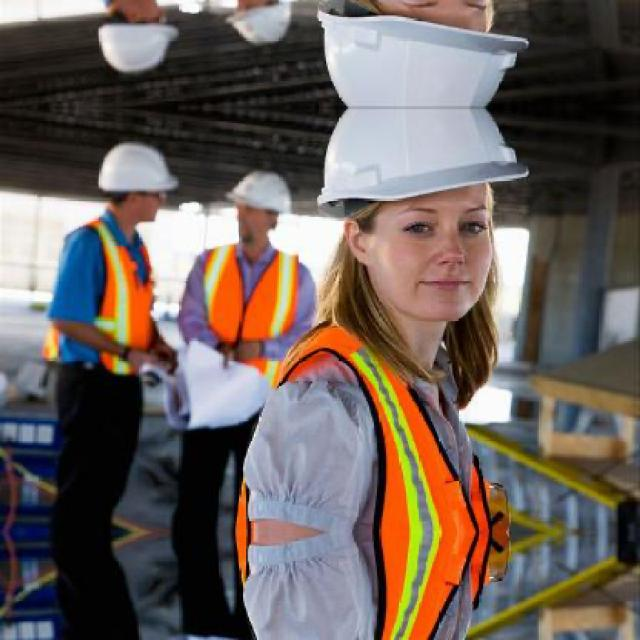con casco: (284, 116, 512, 390), (70, 128, 192, 229), (188, 181, 290, 269)
